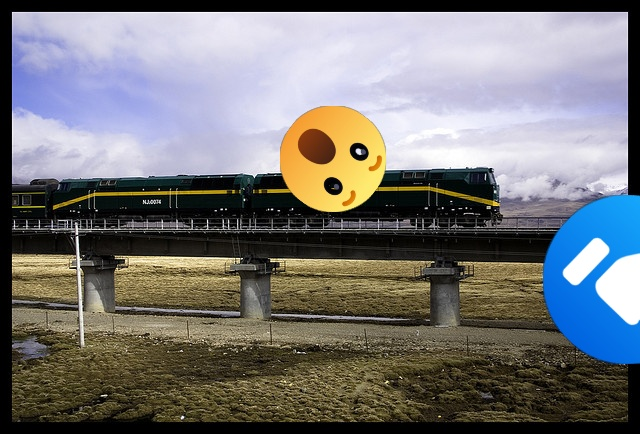like: (543, 195, 640, 364)
wow: (280, 106, 386, 212)
